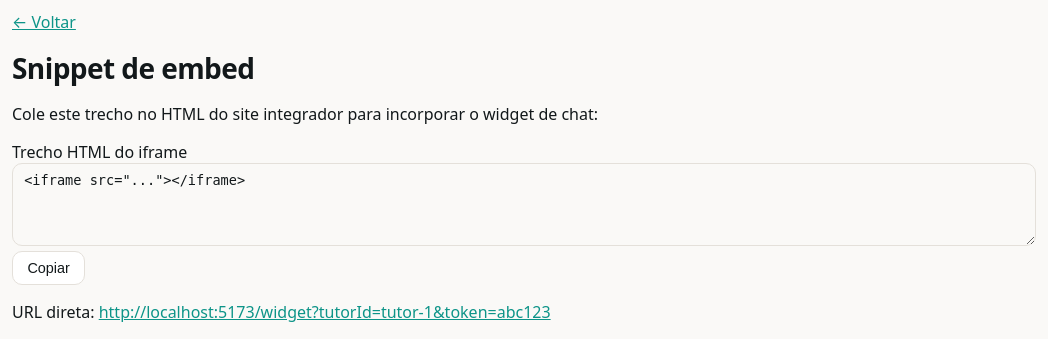
Test: EmbedSnippetPage › shows a manual fallback instead of crashing when the clipboard API is unavailable
Click the button "Copiar". click: x=49, y=268
box: [12,251,85,285]
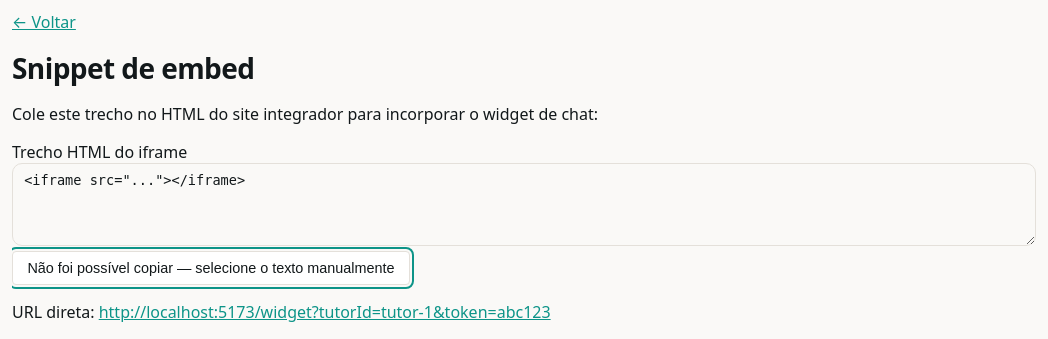
Expected: the button shows "selecione o texto manualmente", [12,251,410,285]
